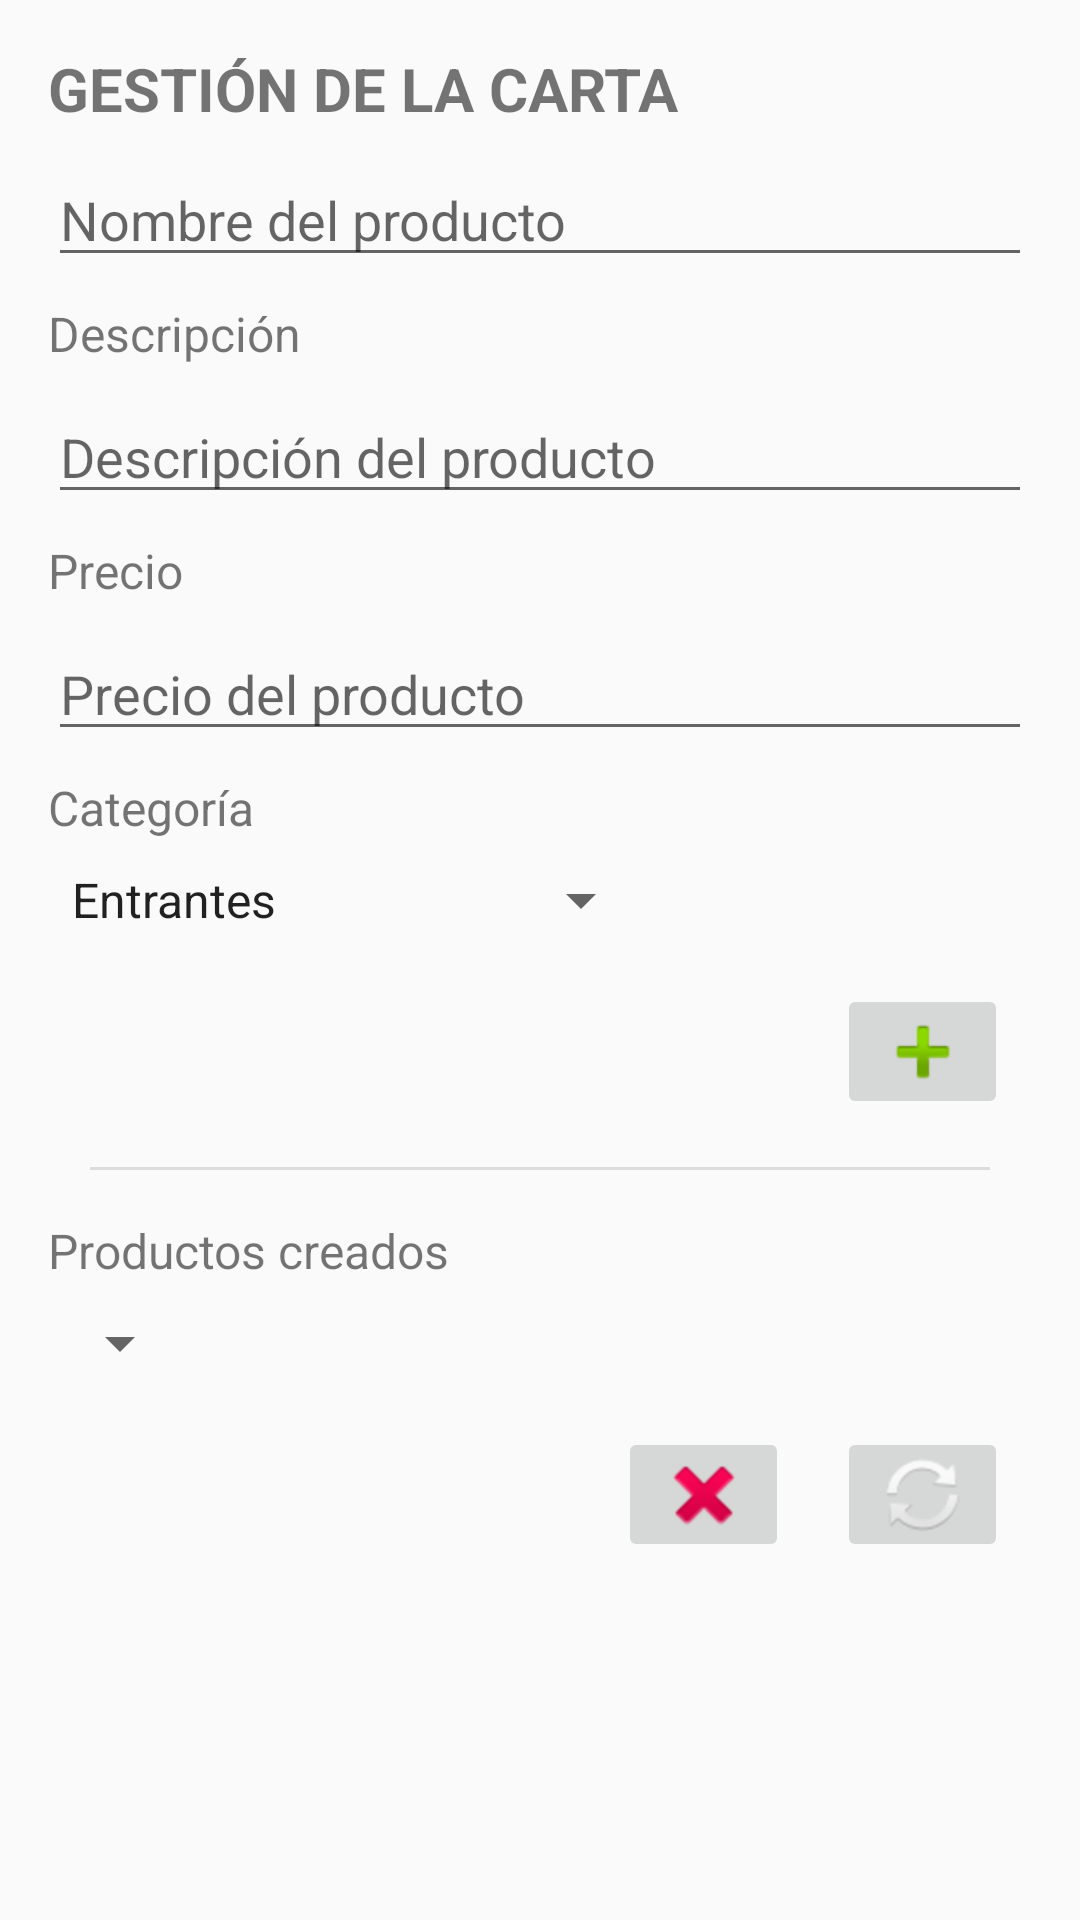

Where icons sit on this 1080 × 1920 app screen, as rect(x1, y1, x2, y2):
add: rect(849, 1002, 996, 1101)
delete: rect(630, 1445, 777, 1544)
popup sync: rect(849, 1445, 996, 1544)
